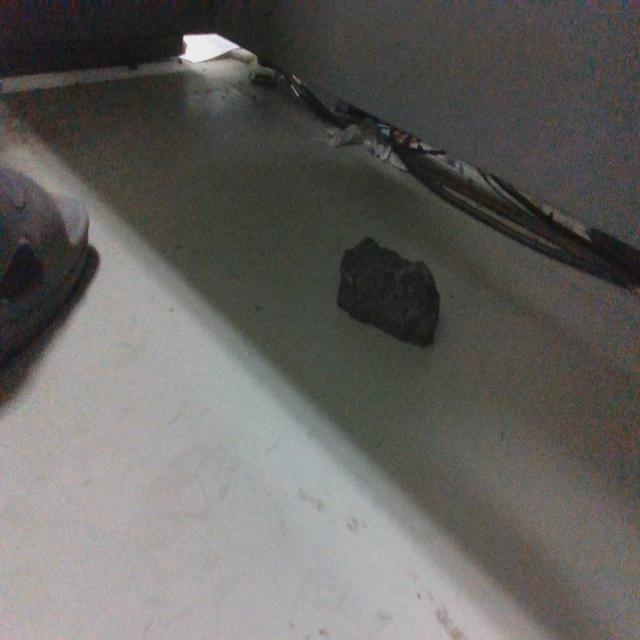stone: (336, 236, 441, 348)
